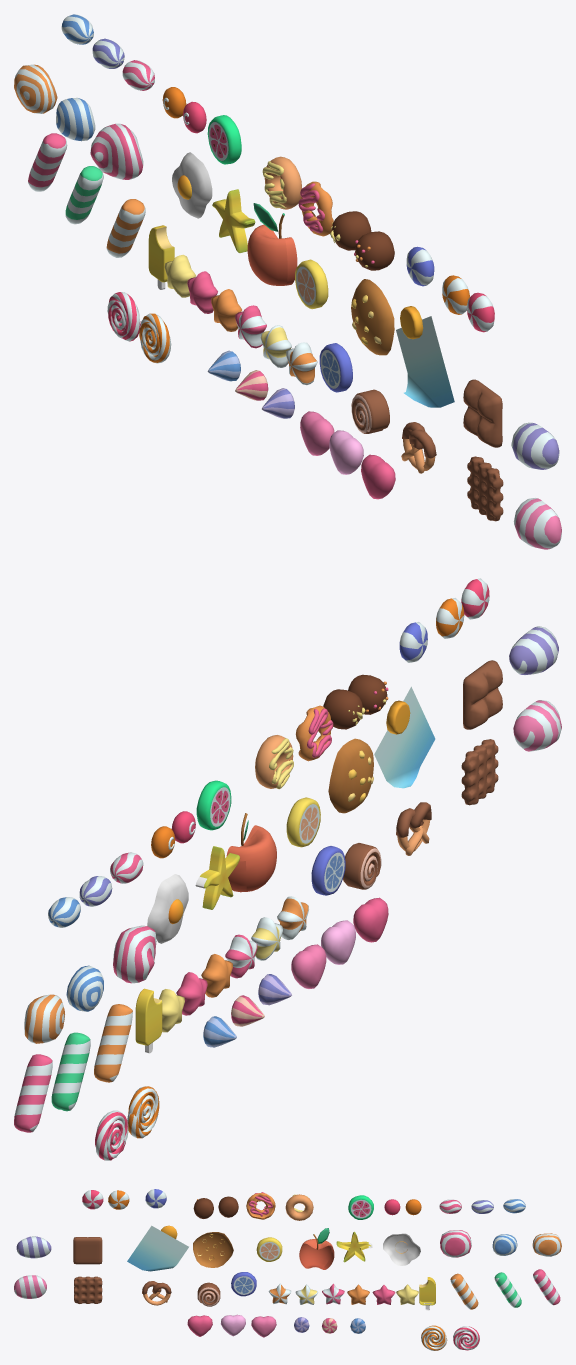
The model's file is Magnet.FBX.
3 renders of one model, top to bottom at view 1: azimuth 30°, elevation 25°; view 2: azimuth 150°, elevation 25°; view 3: azimuth 270°, elevation 25°, orthographic. The views are drawn at different scales.
Parts seen in each view (by area): view 1: Magnet_Post_it, Magnet_Apple, Magnet_Cookie, huitugou_5085_25, huitugou_5085_136, huitugou_5085_168, Magnet_Egg, huitugou_5085_90, huitugou_5085_167, huitugou_5085_26, huitugou_5085_74, huitugou_5085_75 (+33 smaller); view 2: Magnet_Post_it, Magnet_Cookie, Magnet_Apple, huitugou_5085_136, huitugou_5085_25, huitugou_5085_61, huitugou_5085_74, huitugou_5085_75, Magnet_Egg, huitugou_5085_168, huitugou_5085_90, huitugou_5085_167 (+34 smaller); view 3: Magnet_Post_it, Magnet_Cookie, Magnet_Apple, Magnet_Egg, huitugou_5085_136, huitugou_5085_90, huitugou_5085_25, huitugou_5085_168, huitugou_5085_167, huitugou_5085_26, huitugou_5085_176, huitugou_5085_143 (+30 smaller).
Part boxes in pixels (x1,y1,x2,y2): Magnet_Post_it: [396, 306, 454, 407]; Magnet_Apple: [247, 203, 297, 285]; Magnet_Cookie: [351, 279, 394, 355]; huitugou_5085_25: [90, 123, 143, 179]; huitugou_5085_136: [463, 379, 502, 447]; huitugou_5085_168: [513, 498, 561, 549]; Magnet_Egg: [172, 152, 212, 218]; huitugou_5085_90: [467, 456, 503, 521]; huitugou_5085_167: [511, 422, 559, 469]; huitugou_5085_26: [14, 64, 57, 113]; huitugou_5085_74: [106, 199, 145, 257]; huitugou_5085_75: [28, 133, 67, 191]; Magnet_Post_it: [374, 686, 435, 788]; Magnet_Cookie: [328, 738, 373, 813]; Magnet_Apple: [226, 813, 276, 892]; huitugou_5085_136: [463, 660, 502, 729]; huitugou_5085_25: [113, 925, 156, 983]; huitugou_5085_61: [51, 1032, 90, 1111]; huitugou_5085_74: [94, 1004, 132, 1082]; huitugou_5085_75: [14, 1054, 52, 1132]; Magnet_Egg: [147, 874, 188, 943]; huitugou_5085_168: [513, 700, 561, 751]; huitugou_5085_90: [461, 739, 498, 805]; huitugou_5085_167: [509, 626, 558, 674]; Magnet_Post_it: [127, 1225, 188, 1271]; Magnet_Cookie: [193, 1232, 233, 1267]; Magnet_Apple: [299, 1228, 334, 1269]; Magnet_Egg: [383, 1233, 420, 1265]; huitugou_5085_136: [73, 1237, 102, 1264]; huitugou_5085_90: [74, 1276, 102, 1303]; huitugou_5085_25: [440, 1230, 471, 1257]; huitugou_5085_168: [14, 1275, 46, 1298]; huitugou_5085_167: [16, 1236, 51, 1258]; huitugou_5085_26: [532, 1233, 561, 1256]; huitugou_5085_176: [246, 1192, 275, 1219]; huitugou_5085_143: [421, 1325, 447, 1350].
Size of the model in its own units: 6.09 by 34.87 by 107.
